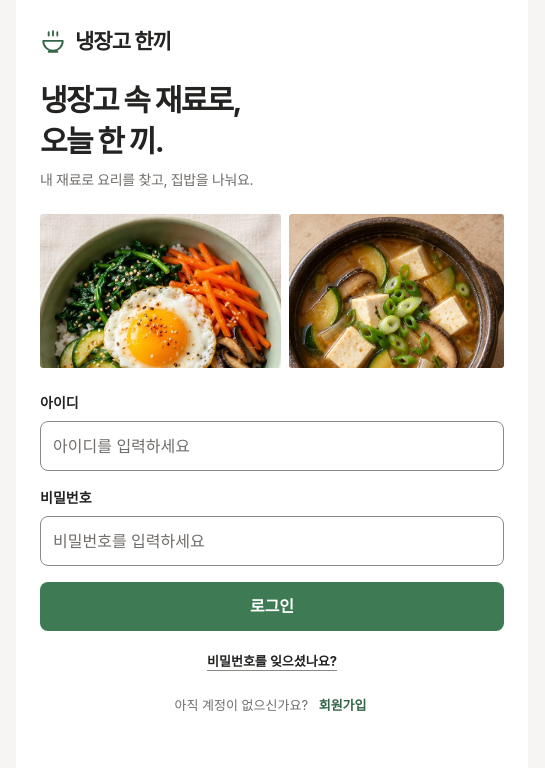
Scenario: 로그인 화면 › 요청이 진행되는 동안 버튼을 잠근다
Type "jisu" into the field labelled "아이디" at [272, 446], box 40,421 -> 504,471
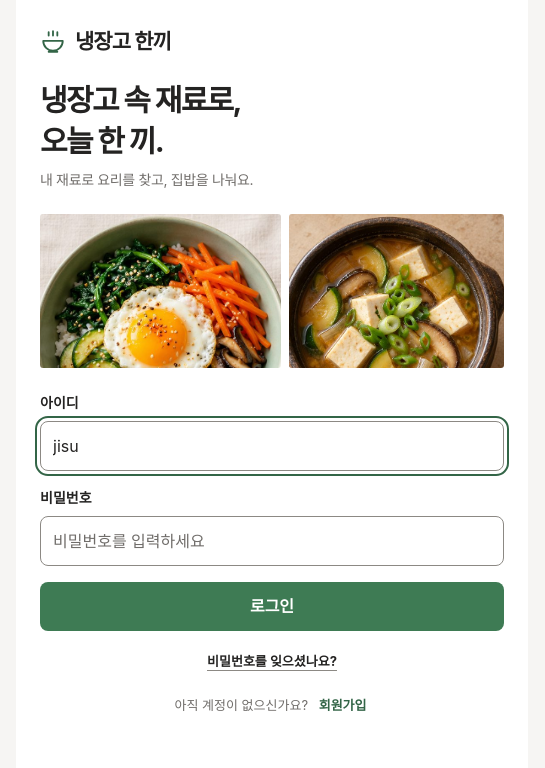
Type "pw123456" into the password field labelled "비밀번호" at [272, 541], box 40,516 -> 504,566
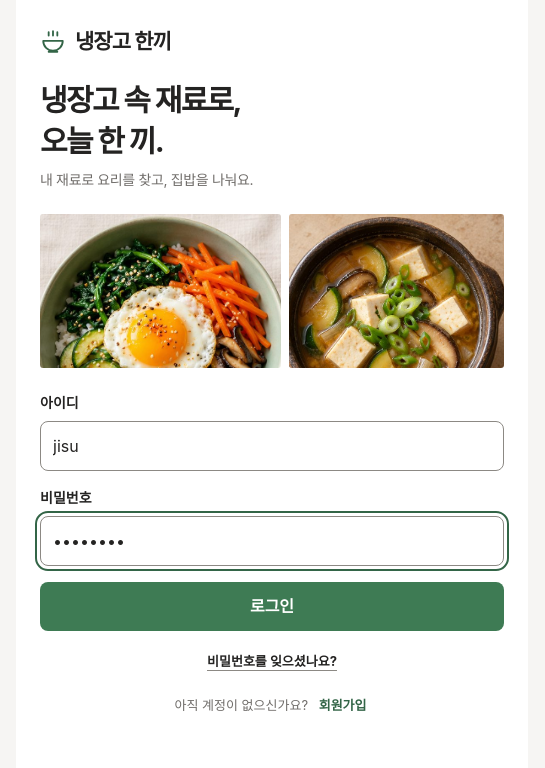
Click the button "로그인" at [272, 606], box 40,582 -> 504,631
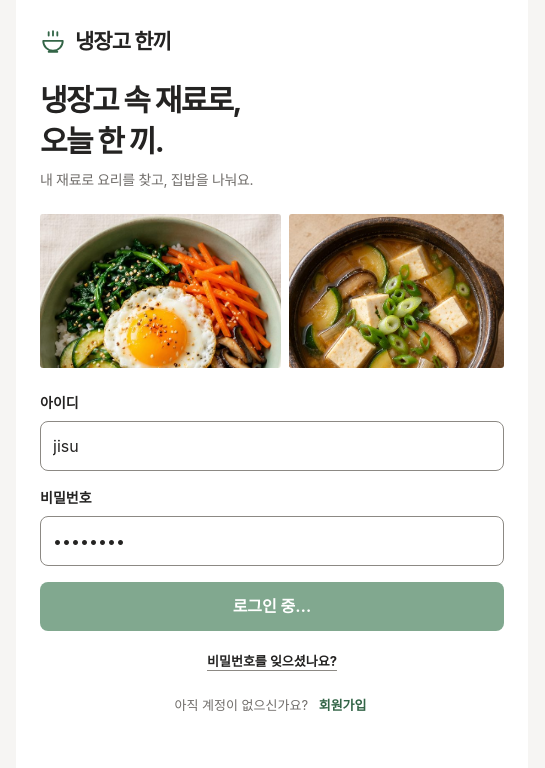
Check: the button "로그인 중…" is disabled, box 40,582 -> 504,631
